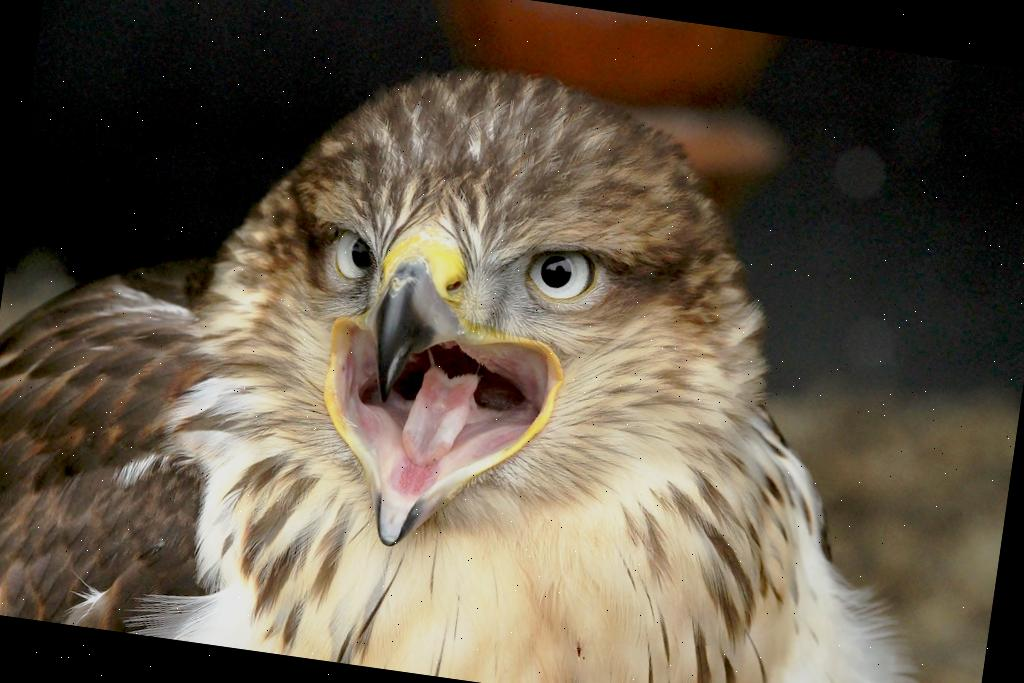Owl: (0, 0, 1007, 683)
